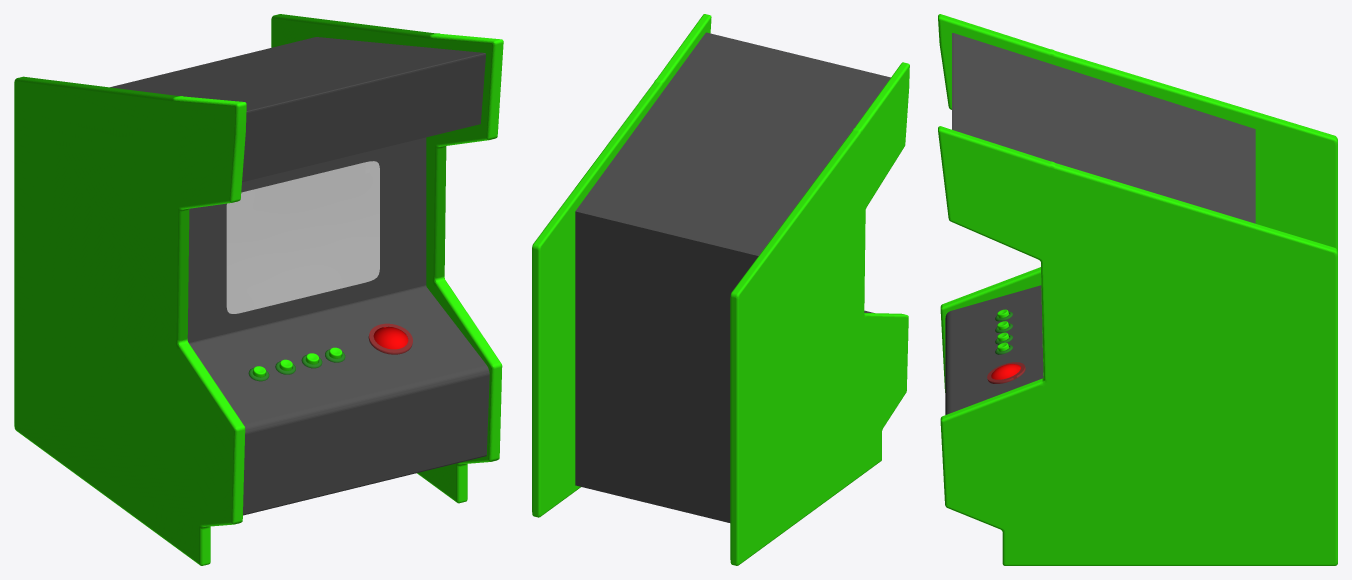
File: Recreativa_materiales.fbx
The picture shows the model from 3 angles, left to right: view 1: azimuth 30°, elevation 25°; view 2: azimuth 150°, elevation 25°; view 3: azimuth 270°, elevation 25°; orthographic projection. The views are drawn at different scales.
Visible parts, largest first — view 1: recrea_fuera, recrea_base, recrea_pantalla, recrea_bigTop; view 2: recrea_base, recrea_fuera; view 3: recrea_fuera, recrea_base.
Part boxes in pixels (box(x1,y1,x2,y2)): recrea_fuera: box(14, 14, 503, 565); recrea_base: box(110, 37, 489, 515); recrea_pantalla: box(226, 161, 379, 313); recrea_bigTop: box(373, 327, 408, 349); recrea_base: box(575, 32, 890, 522); recrea_fuera: box(532, 14, 909, 565); recrea_fuera: box(938, 14, 1337, 565); recrea_base: box(945, 33, 1255, 414).
Size of the model in its own units: 75.18 by 131 by 109.
